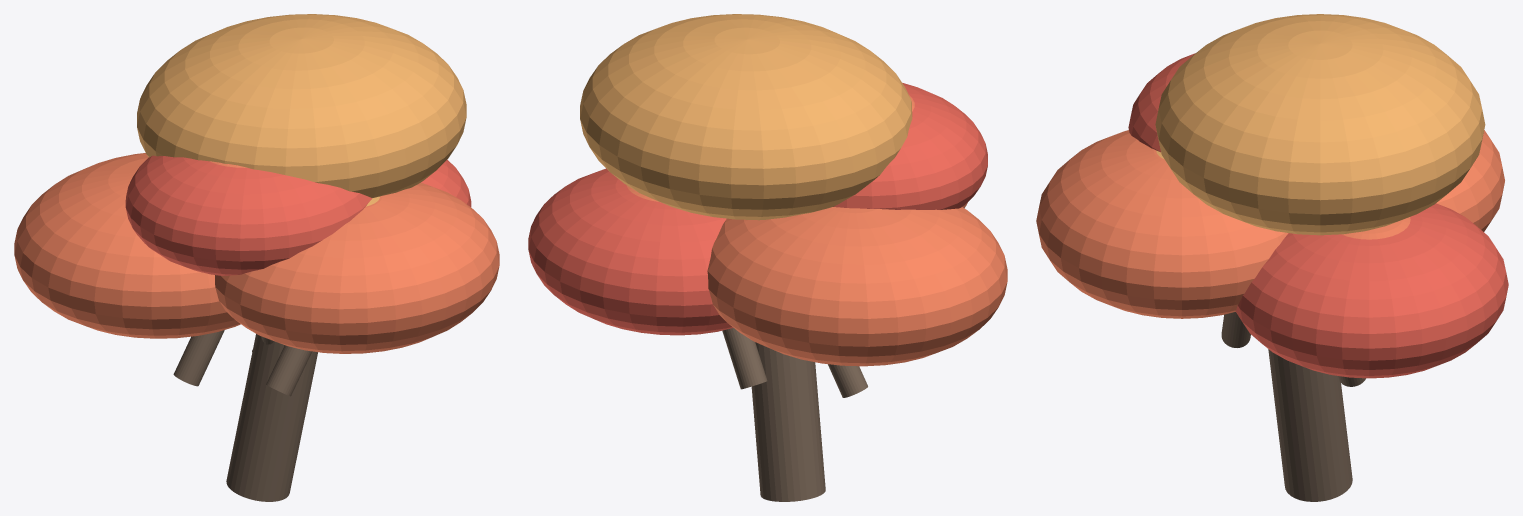
File: aoe_japanese_maple_01.glb
3 views of the same model, side by side, from view 1: azimuth 30°, elevation 25°; view 2: azimuth 150°, elevation 25°; view 3: azimuth 270°, elevation 25° (orthographic). The views are drawn at different scales.
Parts seen in each view (by area): view 1: Sphere.006, Sphere.004, Sphere.002, Sphere.008, Cylinder, Cylinder.002, Cylinder.003, Sphere; view 2: Sphere.006, Sphere.002, Sphere, Sphere.008, Cylinder, Cylinder.001, Cylinder.002; view 3: Sphere.006, Sphere, Sphere.004, Cylinder, Sphere.002, Sphere.008, Cylinder.003, Sphere.001.
Part boxes in pixels (x1,y1,x2,y2): Sphere.006: (137,14,466,197); Sphere.004: (215,182,499,353); Sphere.002: (14,153,240,338); Sphere.008: (125,155,372,275); Cylinder: (226,334,317,501); Cylinder.002: (173,330,224,386); Cylinder.003: (266,345,312,396); Sphere: (421,159,471,207); Sphere.006: (580,14,912,220); Sphere.002: (707,207,1007,366); Sphere: (528,168,733,335); Sphere.008: (833,83,987,209); Cylinder: (751,342,825,501); Cylinder.001: (722,328,767,389); Cylinder.002: (828,364,867,397); Sphere.006: (1155,14,1485,235); Sphere: (1235,203,1508,378); Sphere.004: (1036,130,1288,318); Cylinder: (1268,349,1352,501); Sphere.002: (1436,130,1504,231); Sphere.008: (1128,53,1195,152); Cylinder.003: (1221,312,1250,347); Sphere.001: (1342,217,1410,239).
Size of the model in its own units: 6.49 by 6.34 by 5.81.
